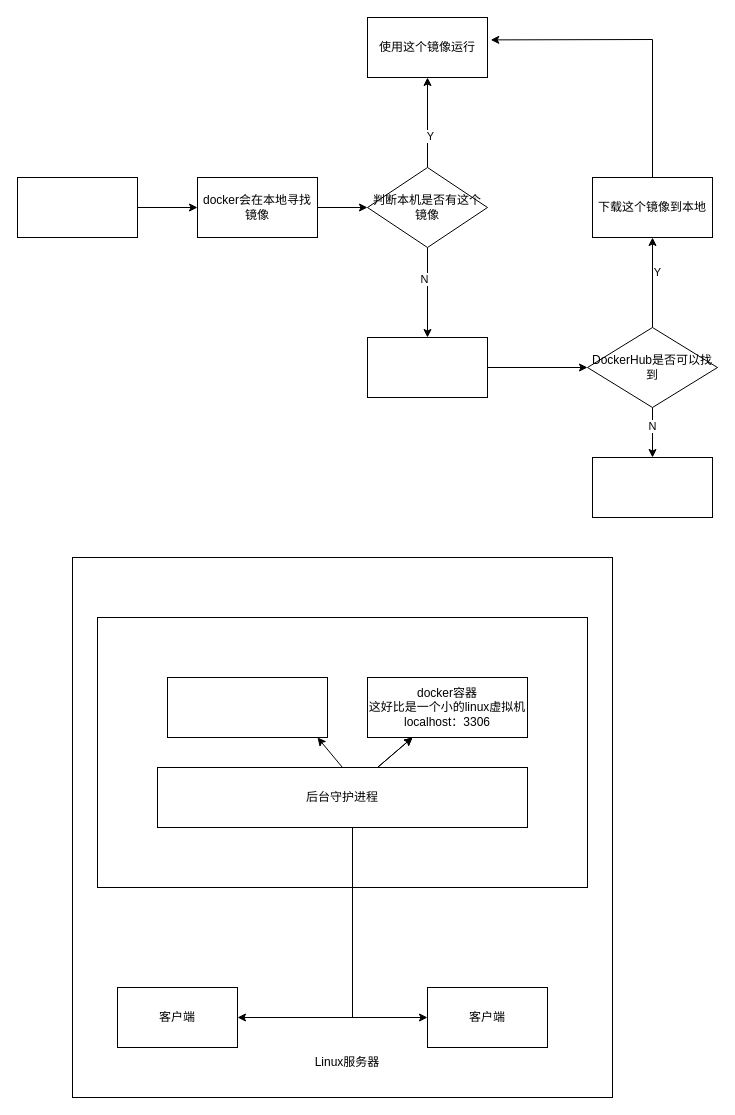
This 735x1115 diagram has some shape labels left out. The centre of each missing label's shape, as x and y in pixels:
"docker容器 这好比是一个小的linux虚拟机 localhost：8080" belongs at (x=247, y=707).
"去DockerhHub上下载" belongs at (x=427, y=367).
"开始" belongs at (x=77, y=207).
"返回错误，找不到镜像" belongs at (x=652, y=487).
